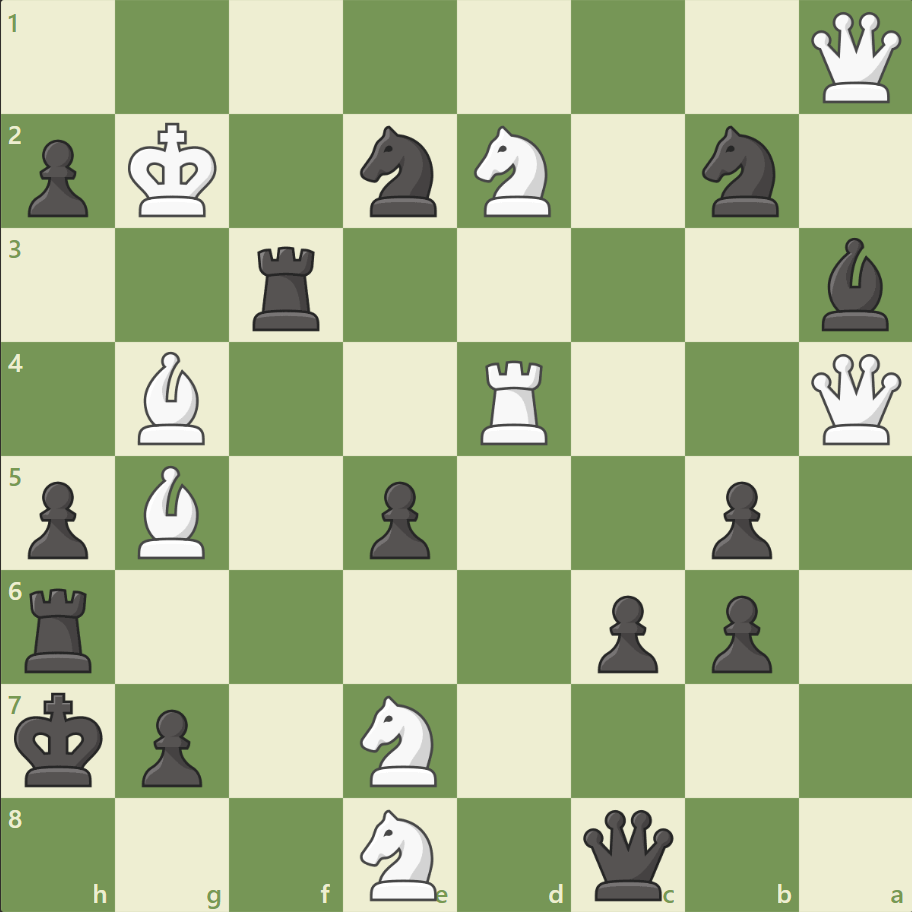B: (131, 460, 215, 563), (131, 347, 215, 449)
K: (124, 117, 224, 225)
N: (351, 688, 449, 791), (351, 802, 449, 904), (465, 121, 562, 223)
Q: (805, 349, 904, 449), (805, 9, 904, 108)
R: (473, 352, 556, 449)
b: (812, 233, 896, 336)
k: (11, 685, 111, 793)
n: (351, 121, 449, 223), (692, 121, 789, 223)
p: (133, 700, 208, 791), (701, 586, 776, 677), (701, 473, 776, 564), (20, 473, 95, 564), (20, 132, 95, 223), (588, 586, 662, 677), (361, 473, 435, 564)
q: (578, 804, 677, 903)
r: (19, 579, 102, 676), (246, 239, 329, 336)
